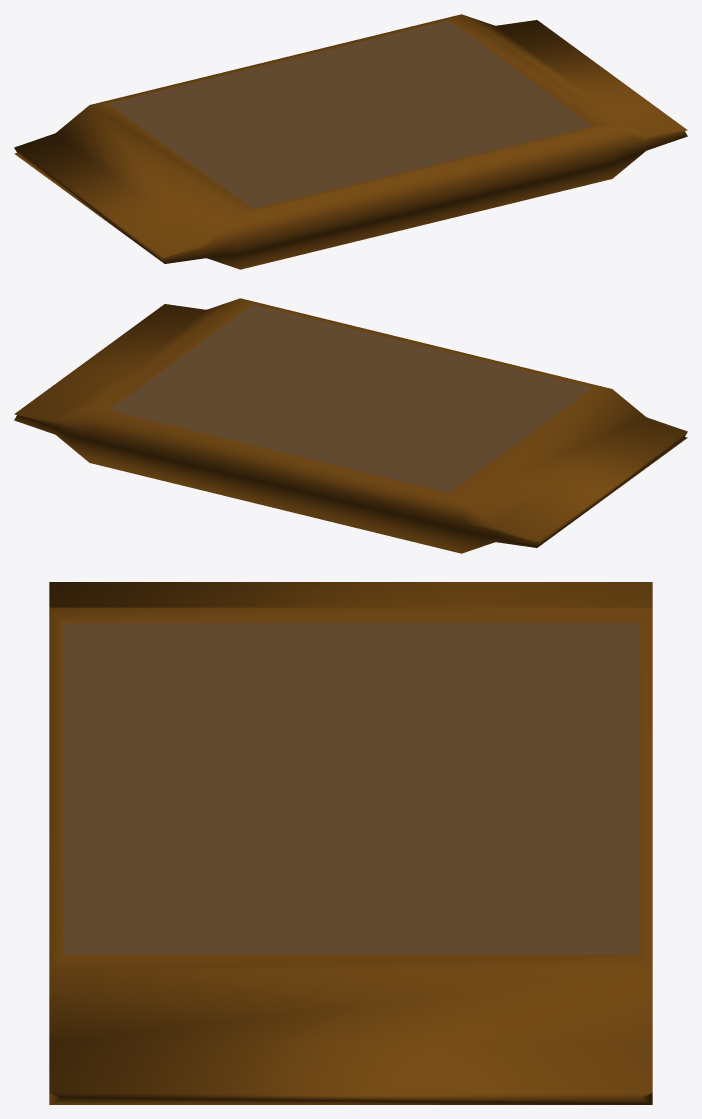
Rendered from FoodBag.fbx.
3 renders of one model, top to bottom at view 1: azimuth 30°, elevation 25°; view 2: azimuth 150°, elevation 25°; view 3: azimuth 270°, elevation 25°, orthographic. The views are drawn at different scales.
Visible parts, largest first — view 1: Cube; view 2: Cube; view 3: Cube.
Boxes of the visible parts, left/top/right/bottom form: Cube: left=14, top=14, right=687, bottom=269; Cube: left=14, top=298, right=687, bottom=553; Cube: left=49, top=582, right=652, bottom=1104.
Size of the model in its own units: 763 by 75.72 by 381.
